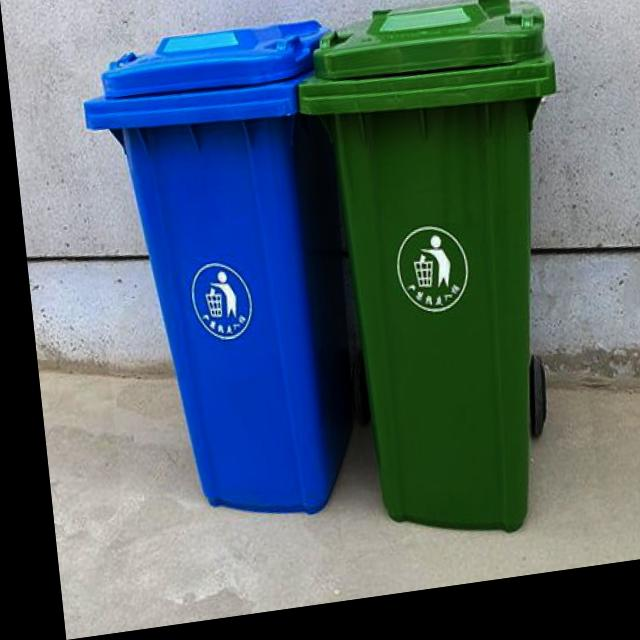garbage_bin: (287, 2, 588, 562), (75, 23, 367, 540)
